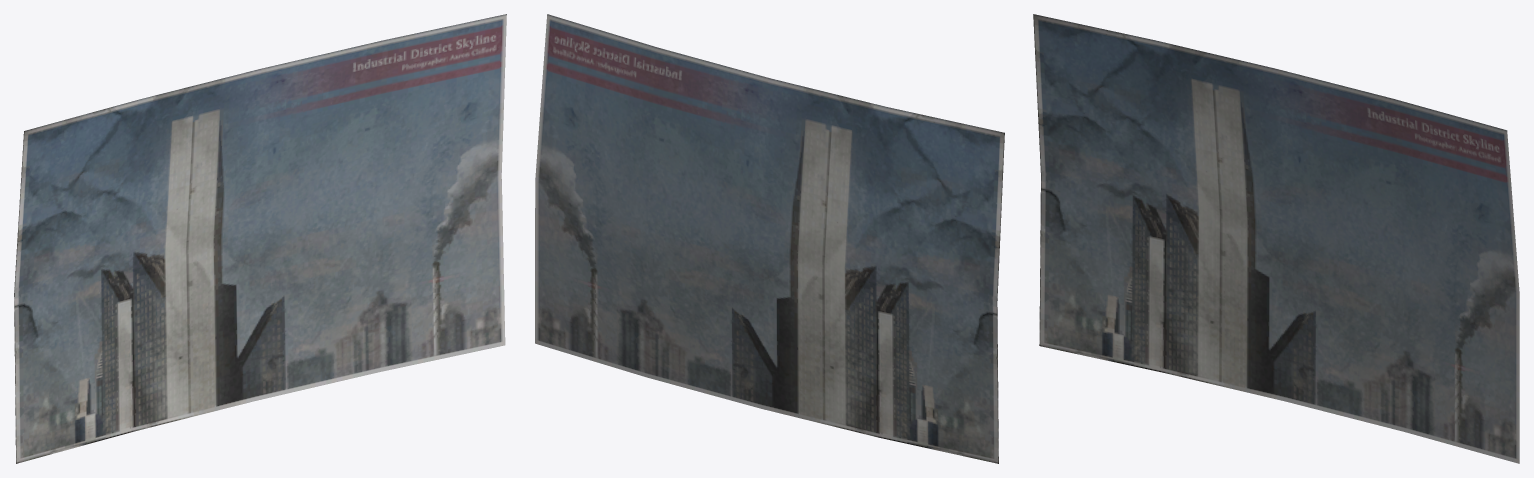
The model's file is postcard_cabin_03.dae.
3 renders of one model, left to right at view 1: azimuth 30°, elevation 25°; view 2: azimuth 150°, elevation 25°; view 3: azimuth 330°, elevation 25°, orthographic. The views are drawn at different scales.
Visible parts, largest first — view 1: Mesh; view 2: Mesh; view 3: Mesh.
Boxes of the visible parts, x1,y1,x2,y2 form: Mesh: (14, 14, 506, 463); Mesh: (535, 14, 1004, 463); Mesh: (1033, 14, 1519, 463).
Size of the model in its own units: 0.1512 by 0.1016 by 0.00906.
